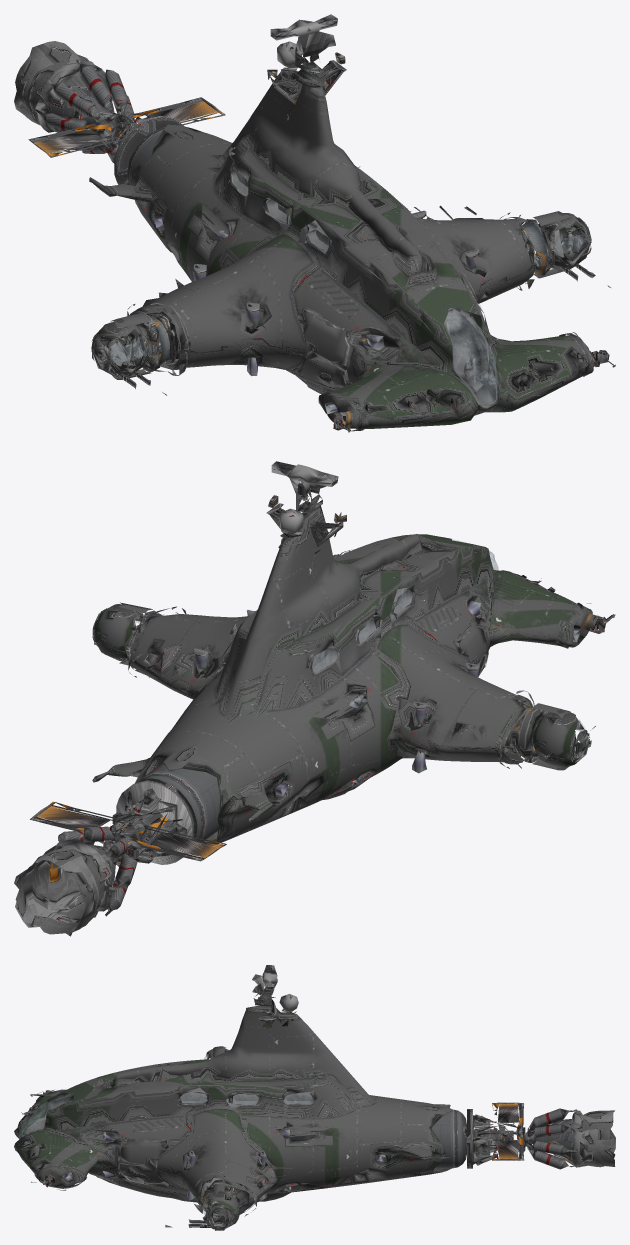
The model's file is chasseur.glb.
The picture shows the model from 3 angles, top to bottom: view 1: azimuth 30°, elevation 25°; view 2: azimuth 150°, elevation 25°; view 3: azimuth 270°, elevation 25°; orthographic projection. The views are drawn at different scales.
Parts seen in each view (by area): view 1: HullA.009, Nozzle_low, HullA.004, Radiator1_low.001, Cube.007, Tank_low, Comms1_low, Ball_low.001, Cylinder.006, Ball_low, HullA.017, HullA.006 (+11 smaller); view 2: HullA.009, Nozzle_low, Tank_low, Radiator1_low.001, Ball_low.001, Piston_low, Ball_low, Cylinder.006, Comms1_low, HullA.017, HullA.006, Truss_low (+2 smaller); view 3: HullA.009, Nozzle_low, Tank_low, Cube.007, Radiator1_low.001, Piston_low, HullA.006, Ball_low, Comms1_low, Cylinder.006, HullA.004, HullA.017 (+5 smaller).
Part boxes in pixels (bbox=[...]): HullA.009: bbox=[89, 67, 594, 428]; Nozzle_low: bbox=[14, 41, 125, 140]; HullA.004: bbox=[446, 309, 498, 406]; Radiator1_low.001: bbox=[28, 97, 225, 157]; Cube.007: bbox=[298, 275, 485, 387]; Tank_low: bbox=[114, 115, 184, 184]; Comms1_low: bbox=[270, 14, 337, 74]; Ball_low.001: bbox=[91, 322, 148, 378]; Cylinder.006: bbox=[154, 210, 481, 414]; Ball_low: bbox=[538, 213, 591, 270]; HullA.017: bbox=[129, 163, 534, 369]; HullA.006: bbox=[230, 168, 328, 253]; HullA.009: bbox=[92, 505, 592, 845]; Nozzle_low: bbox=[14, 839, 124, 936]; Tank_low: bbox=[116, 763, 220, 864]; Radiator1_low.001: bbox=[30, 801, 226, 861]; Ball_low.001: bbox=[532, 712, 589, 768]; Piston_low: bbox=[103, 788, 186, 866]; Ball_low: bbox=[93, 604, 143, 661]; Cylinder.006: bbox=[194, 601, 581, 796]; Comms1_low: bbox=[271, 461, 338, 513]; HullA.017: bbox=[128, 585, 532, 764]; HullA.006: bbox=[312, 588, 411, 673]; Truss_low: bbox=[115, 791, 177, 859]; HullA.009: bbox=[14, 1005, 452, 1213]; Nozzle_low: bbox=[517, 1110, 615, 1167]; Tank_low: bbox=[431, 1109, 472, 1168]; Cube.007: bbox=[117, 1138, 169, 1187]; Radiator1_low.001: bbox=[492, 1102, 524, 1160]; Piston_low: bbox=[474, 1114, 525, 1165]; HullA.006: bbox=[180, 1091, 313, 1107]; Ball_low: bbox=[203, 1192, 239, 1230]; Comms1_low: bbox=[252, 965, 277, 1005]; Cylinder.006: bbox=[64, 1129, 386, 1200]; HullA.004: bbox=[19, 1094, 72, 1138]; HullA.017: bbox=[177, 1090, 314, 1214].
Size of what is drawn, in the model's own units: 19.3 by 12.45 by 30.61.
Materials: 6 (5 with a texture image).
